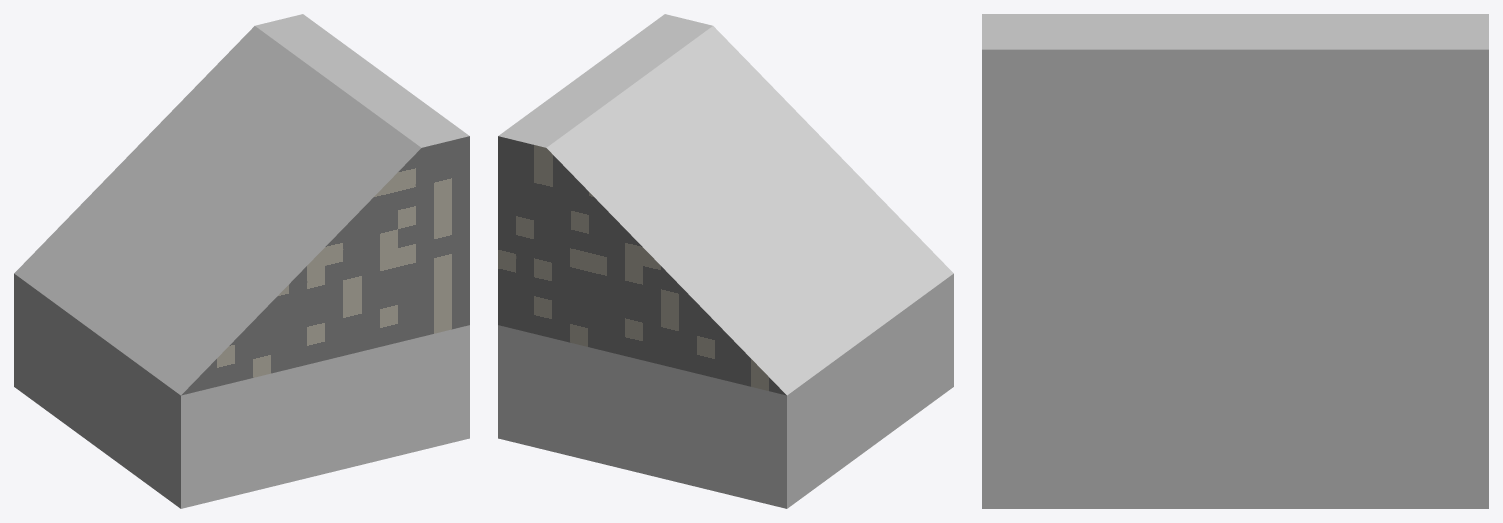
Rendered from slope75_shave2_base6.obj.
3 views of the same model, side by side, from view 1: azimuth 30°, elevation 25°; view 2: azimuth 150°, elevation 25°; view 3: azimuth 270°, elevation 25° (orthographic). The views are drawn at different scales.
Bounding box in the file's own units: 1 × 1 × 1.
